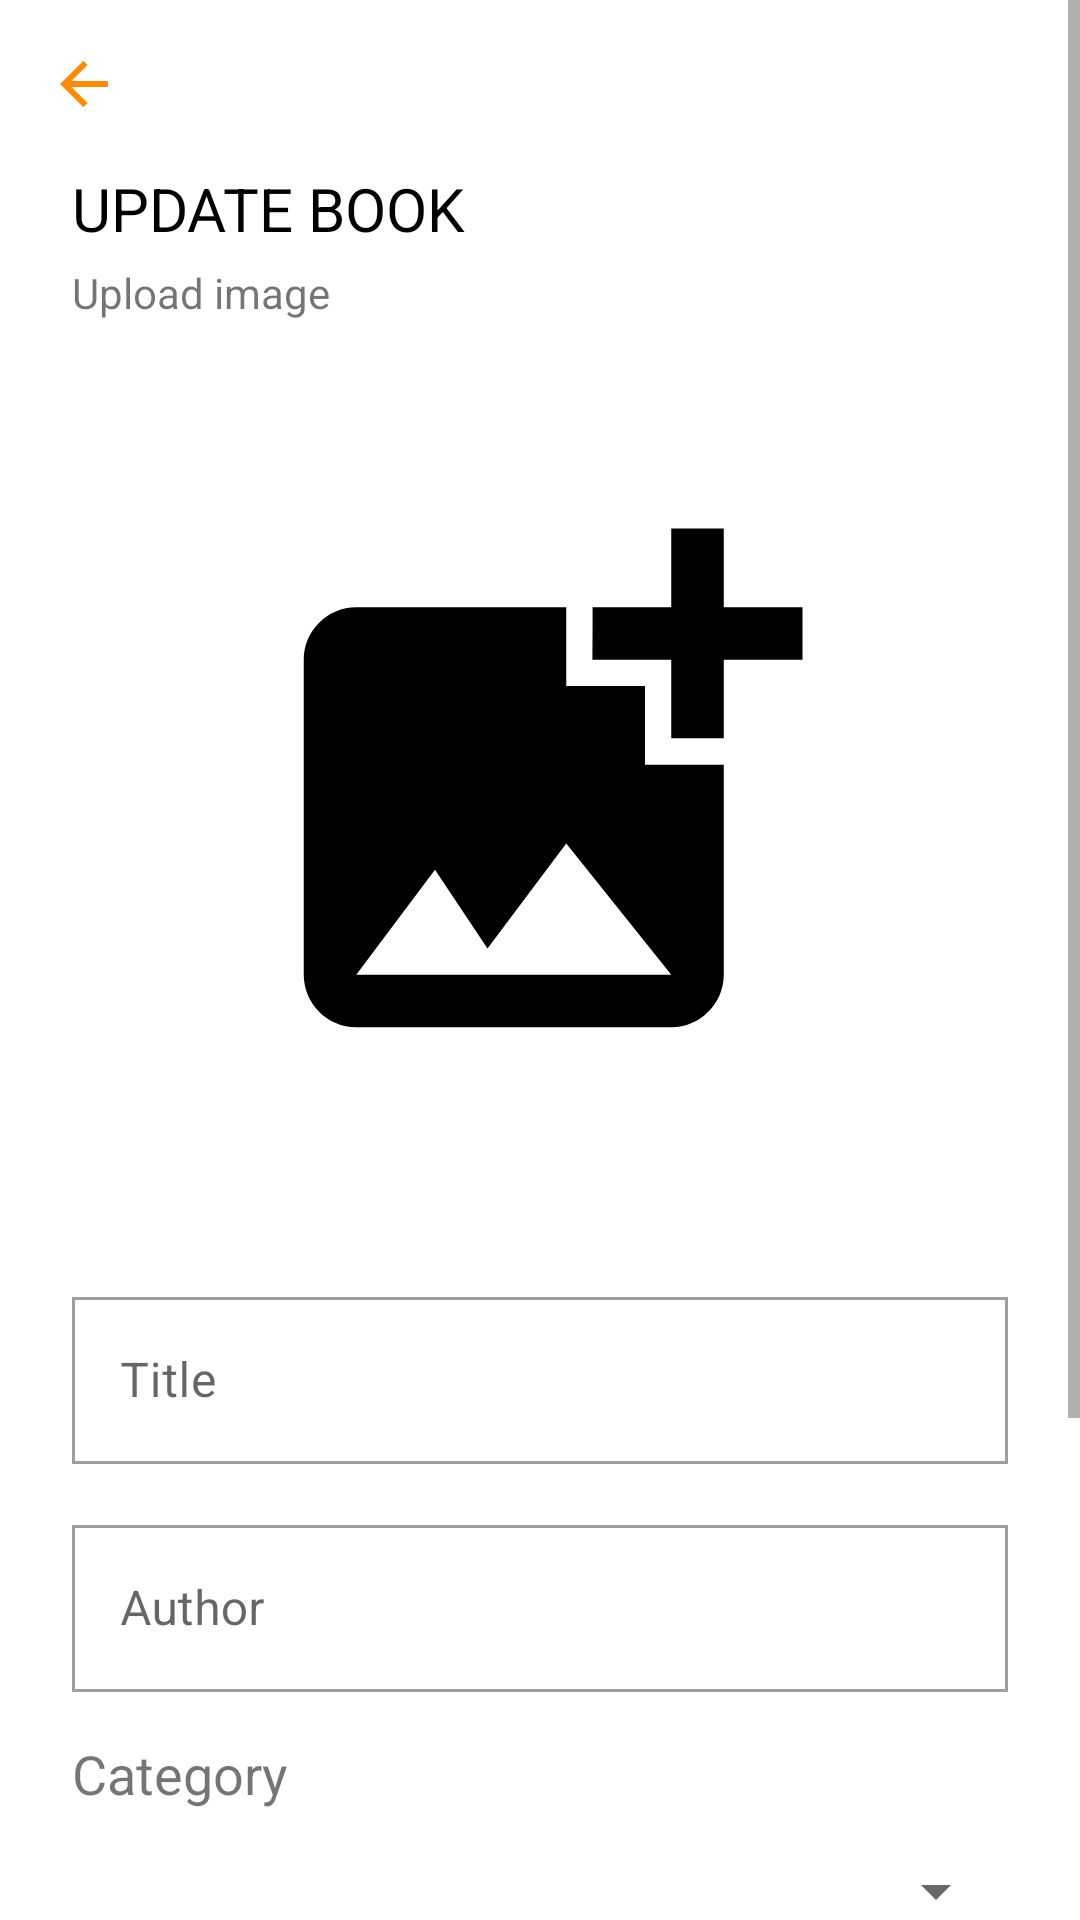

Icons on this 1080 × 1920 Android screen, each with its box as Rect(x1, y1, x2, y2):
back home: Rect(60, 61, 108, 107)
